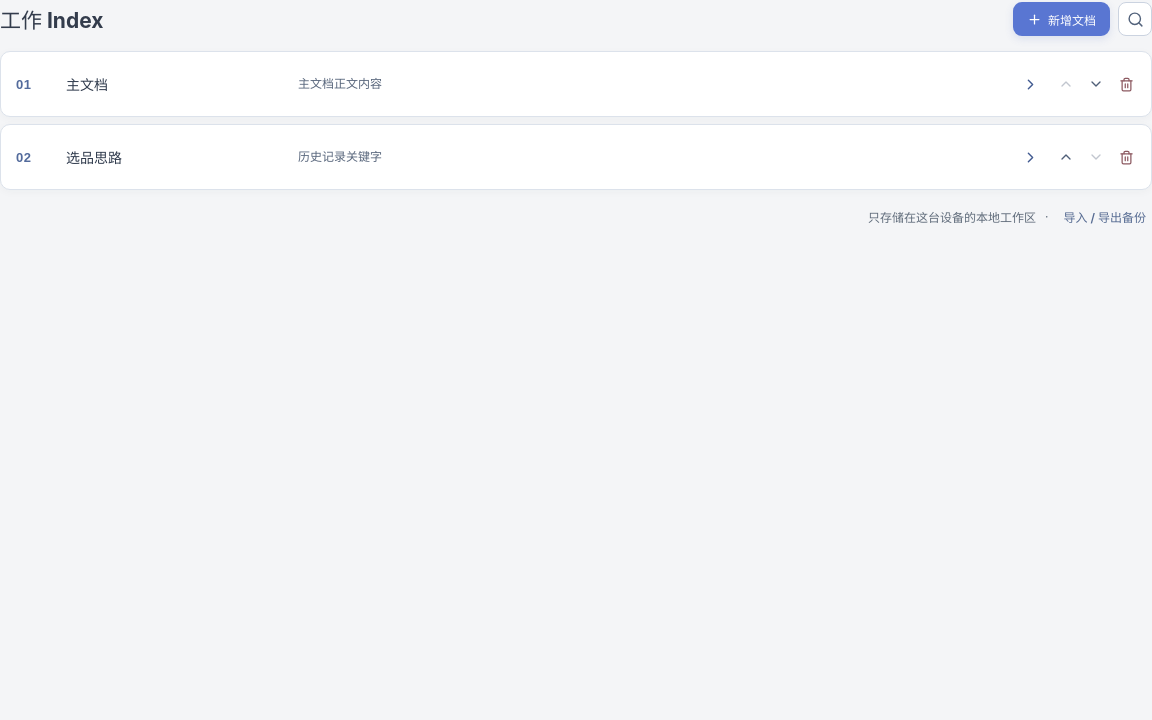
Test case: Index document directory and focused editor › lets Escape close a delete confirmation without leaving the document editor
Click the button with aria-label "打开文档：主文档" at (87, 84), box [14,60,1042,108]
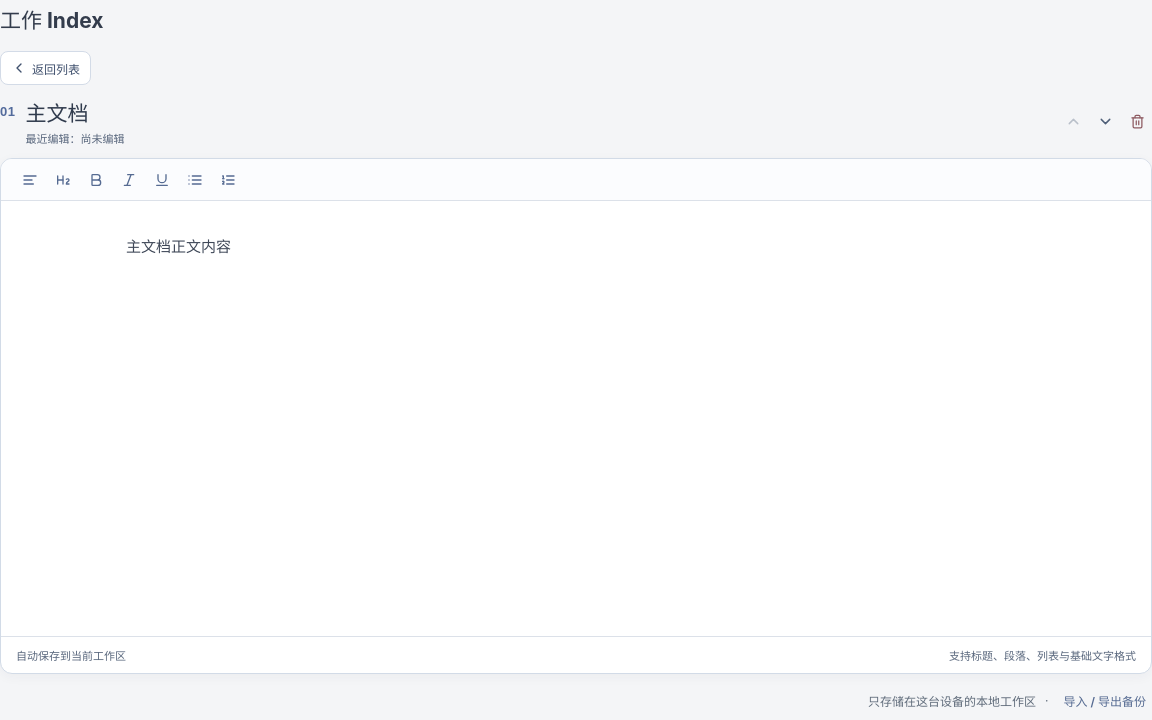
Check: the field named "主文档内容" is shown, box [126,237,231,256]
Click the button named "删除文档：主文档" at (1138, 122), box [1123,107,1151,136]
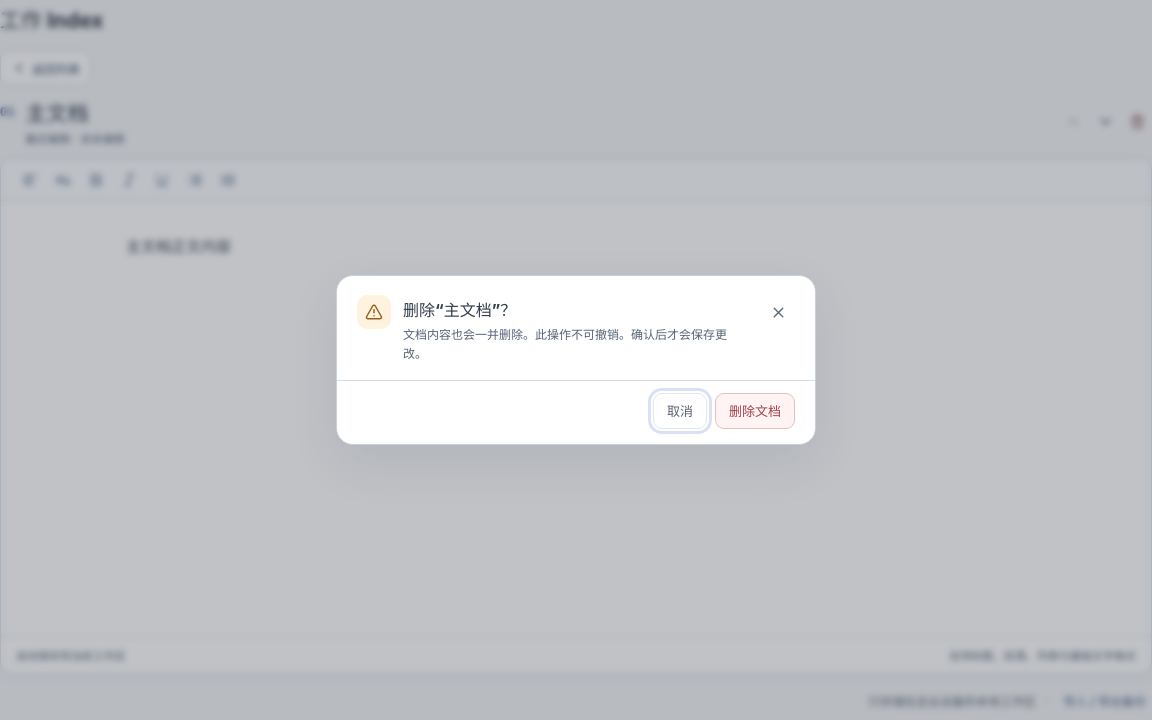
Press Escape in the dialog "删除“主文档”？", box [336,275,816,445]
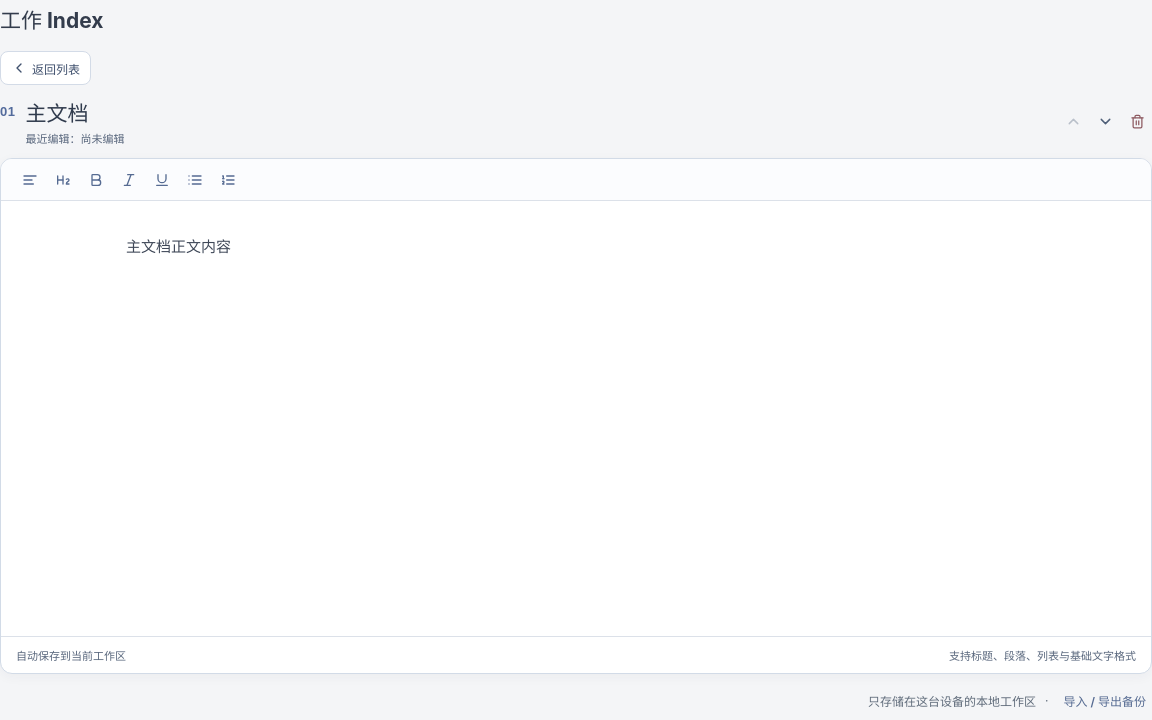
Check: the field named "主文档内容" is shown, box [126,237,231,256]
Check: the heading "删除“主文档”？" is gone
